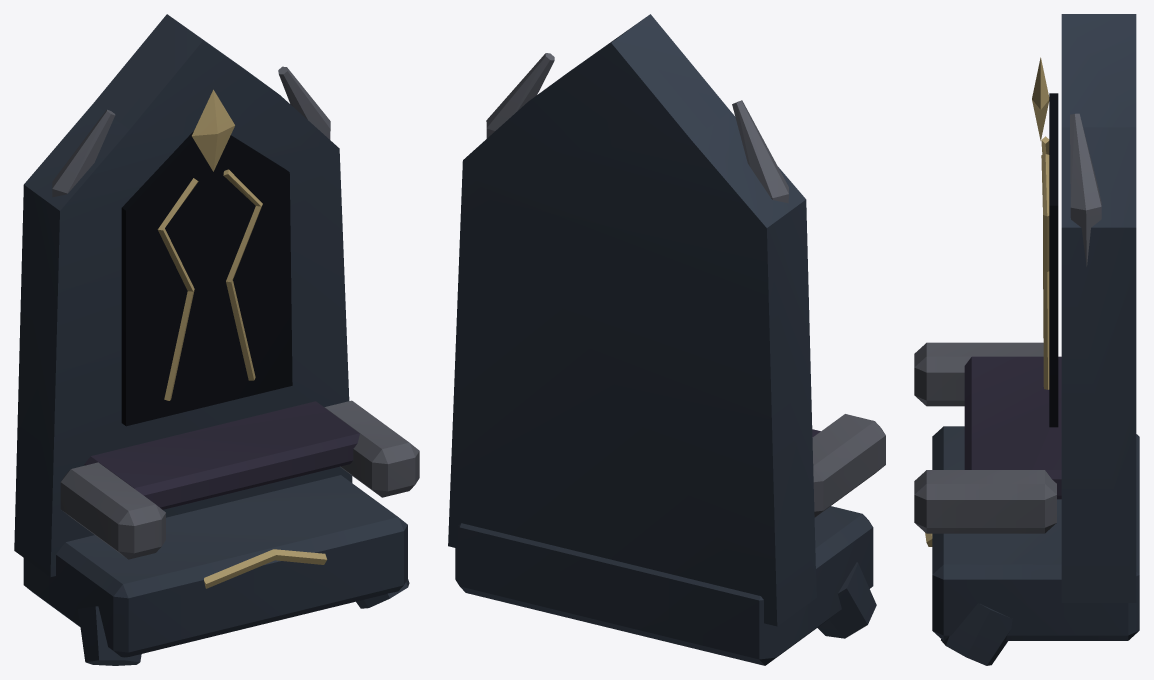
Rendered from hollow_throne.fbx.
3 renders of one model, left to right at view 1: azimuth 30°, elevation 25°; view 2: azimuth 150°, elevation 25°; view 3: azimuth 270°, elevation 25°, orthographic. The views are drawn at different scales.
Parts seen in each view (by area): view 1: hollow_throne; view 2: hollow_throne; view 3: hollow_throne.
Boxes of the visible parts, x1=… form: hollow_throne: x1=14, y1=14, x2=419, y2=665; hollow_throne: x1=448, y1=14, x2=885, y2=665; hollow_throne: x1=914, y1=14, x2=1139, y2=665.
Bounding box in the file's own units: 2.34 × 3.98 × 1.39.
